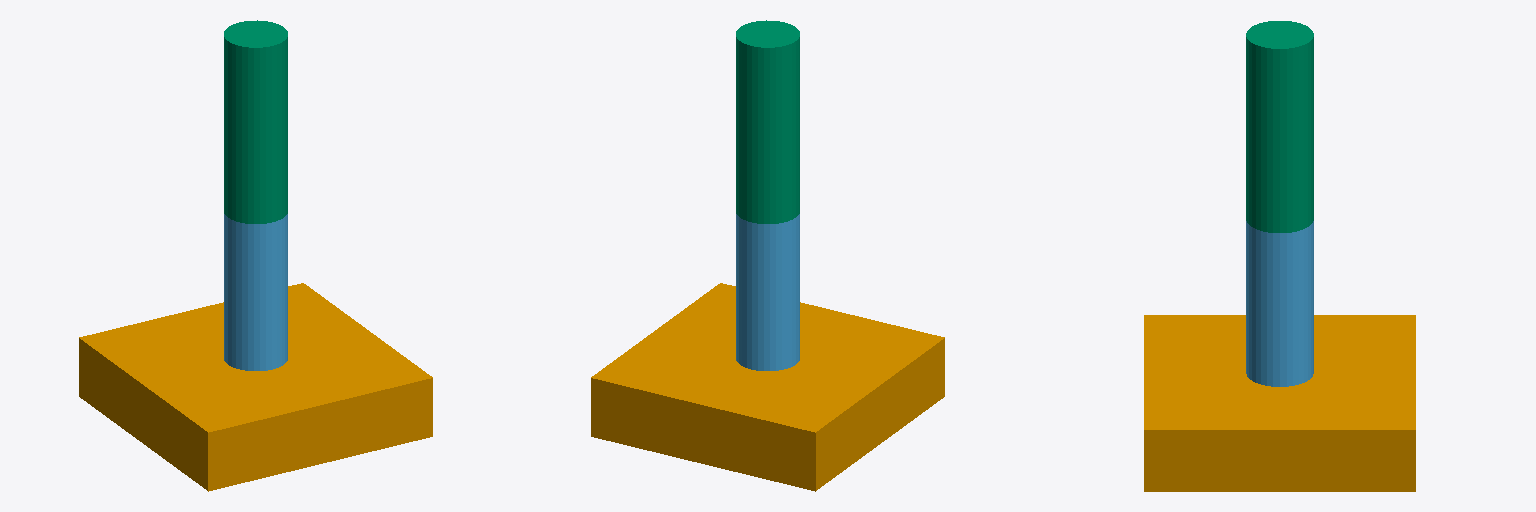
URDF robot description (simple_robot):
<?xml version="1.0"?>
<robot name="simple_robot">
  <!-- Base Link -->
  <link name="base_link">
    <visual>
      <geometry>
        <box size="0.4 0.4 0.1" />
      </geometry>
      <material name="blue"/>
    </visual>
    <collision>
      <geometry>
        <box size="0.4 0.4 0.1" />
      </geometry>
    </collision>
    <inertial>
      <mass value="1.0"/>
      <inertia ixx="0.001" ixy="0.0" ixz="0.0" iyy="0.001" iyz="0.0" izz="0.001"/>
    </inertial>
  </link>

  <!-- First Arm Link -->
  <link name="arm_link_1">
    <visual>
      <geometry>
        <cylinder radius="0.05" length="0.3"/>
      </geometry>
      <material name="green"/>
    </visual>
    <collision>
      <geometry>
        <cylinder radius="0.05" length="0.3"/>
      </geometry>
    </collision>
    <inertial>
      <mass value="0.5"/>
      <inertia ixx="0.001" ixy="0.0" ixz="0.0" iyy="0.001" iyz="0.0" izz="0.001"/>
    </inertial>
  </link>

  <!-- Second Arm Link -->
  <link name="arm_link_2">
    <visual>
      <geometry>
        <cylinder radius="0.05" length="0.3"/>
      </geometry>
      <material name="red"/>
    </visual>
    <collision>
      <geometry>
        <cylinder radius="0.05" length="0.3"/>
      </geometry>
    </collision>
    <inertial>
      <mass value="0.5"/>
      <inertia ixx="0.001" ixy="0.0" ixz="0.0" iyy="0.001" iyz="0.0" izz="0.001"/>
    </inertial>
  </link>

  <!-- Joint between Base and Arm Link 1 -->
  <joint name="base_to_arm_1" type="revolute">
    <parent link="base_link"/>
    <child link="arm_link_1"/>
    <origin xyz="0 0 0.15" rpy="0 0 0"/>
    <axis xyz="0 1 0"/>
    <limit effort="10.0" velocity="1.0" lower="-1.57" upper="1.57"/>
  </joint>

  <!-- Joint between Arm Link 1 and Arm Link 2 -->
  <joint name="arm_1_to_arm_2" type="revolute">
    <parent link="arm_link_1"/>
    <child link="arm_link_2"/>
    <origin xyz="0 0 0.3" rpy="0 0 0"/>
    <axis xyz="0 1 0"/>
    <limit effort="10.0" velocity="1.0" lower="-1.57" upper="1.57"/>
  </joint>
</robot>

--- Facts derived from the render (not from the file) ---
Views: 3 orthographic renders of the robot side by side, from view 1: azimuth 30°, elevation 25°; view 2: azimuth 150°, elevation 25°; view 3: azimuth 270°, elevation 25°.
Model simple_robot with 3 links and 2 joints (2 revolute), rooted at base_link, posed all joints at 0.
Links seen in each view (by area): view 1: base_link, arm_link_2, arm_link_1; view 2: base_link, arm_link_2, arm_link_1; view 3: base_link, arm_link_2, arm_link_1.
Link boxes in pixels (<box>): base_link: <box>79,283,432,491</box>; arm_link_2: <box>224,20,287,223</box>; arm_link_1: <box>224,214,287,370</box>; base_link: <box>591,283,944,491</box>; arm_link_2: <box>736,20,799,223</box>; arm_link_1: <box>736,214,799,370</box>; base_link: <box>1144,315,1415,491</box>; arm_link_2: <box>1246,21,1313,232</box>; arm_link_1: <box>1246,221,1313,386</box>.
Size in the robot's own frame: 0.4 by 0.4 by 0.65 metres.
Geometry: primitives only (box / cylinder / sphere), no mesh files.